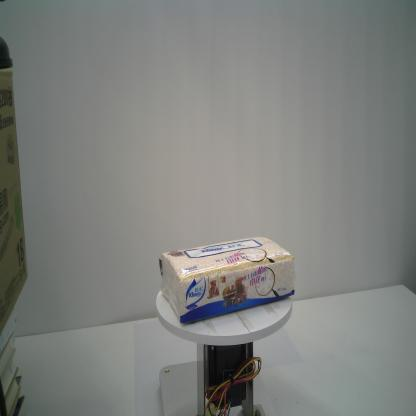Tissue: (157, 233, 295, 325)
